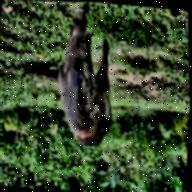boar: (50, 5, 122, 150)
